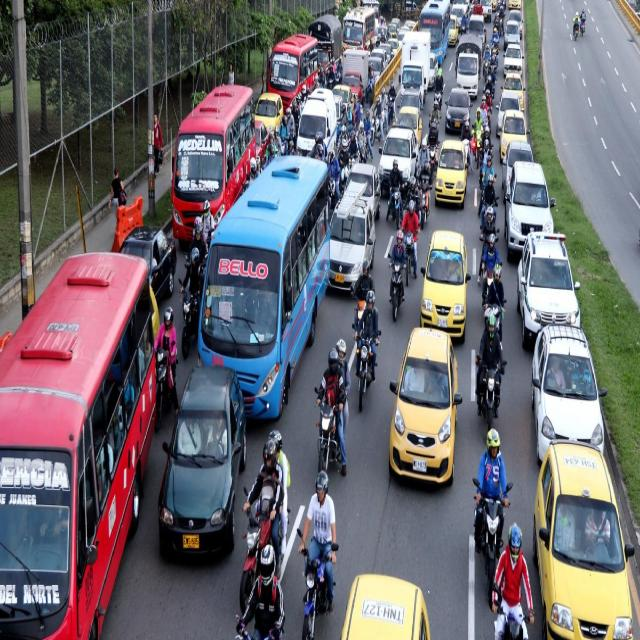BUS: (3, 251, 160, 640), (204, 156, 339, 422), (172, 84, 258, 235), (267, 38, 318, 106), (342, 8, 378, 54)
